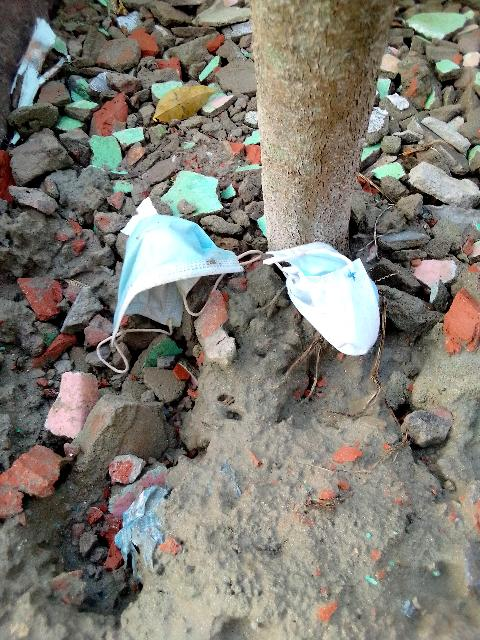mask: (116, 199, 228, 346), (260, 225, 389, 350)
